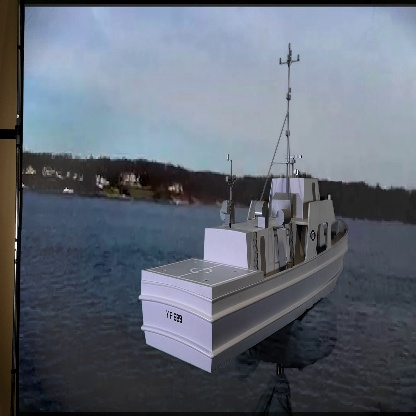YP689: (138, 39, 349, 375)
